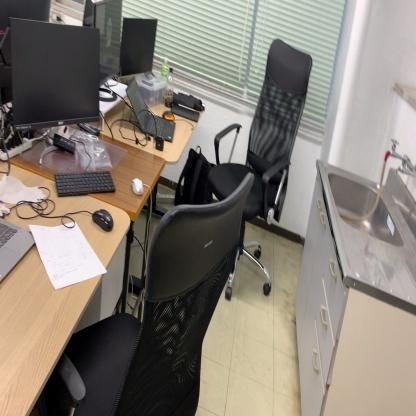chair: (45, 172, 254, 416), (204, 36, 314, 302)
